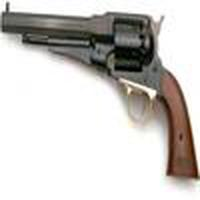gun: (1, 6, 200, 190)
